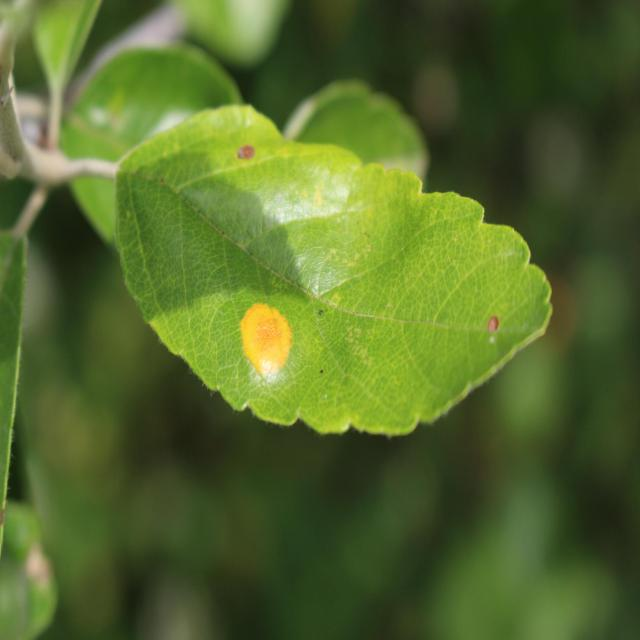Black Rot: (230, 127, 263, 168), (485, 314, 505, 342)
Rust: (231, 285, 302, 396)
